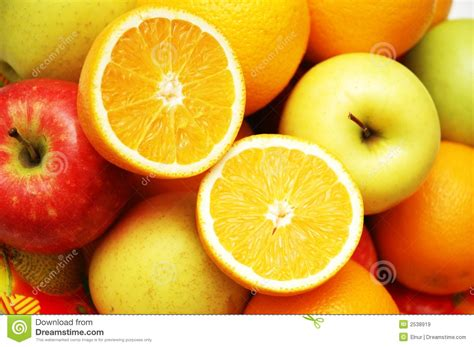apple: (282, 53, 443, 212), (1, 76, 137, 254)
